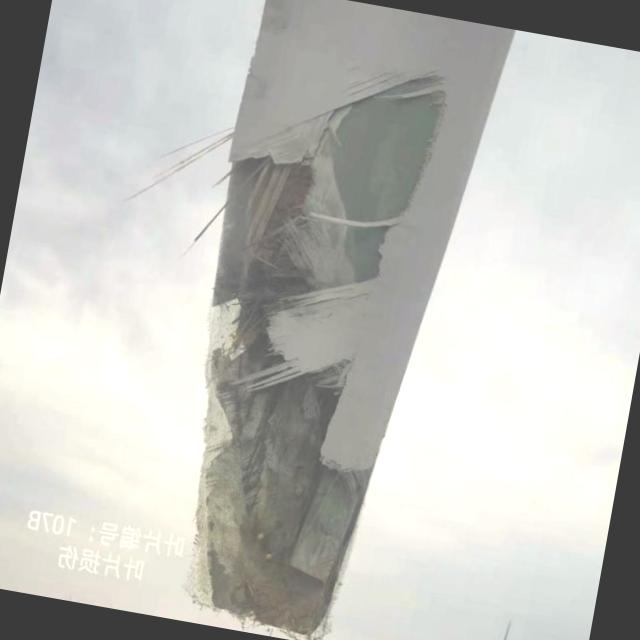crack: (160, 90, 443, 636)
